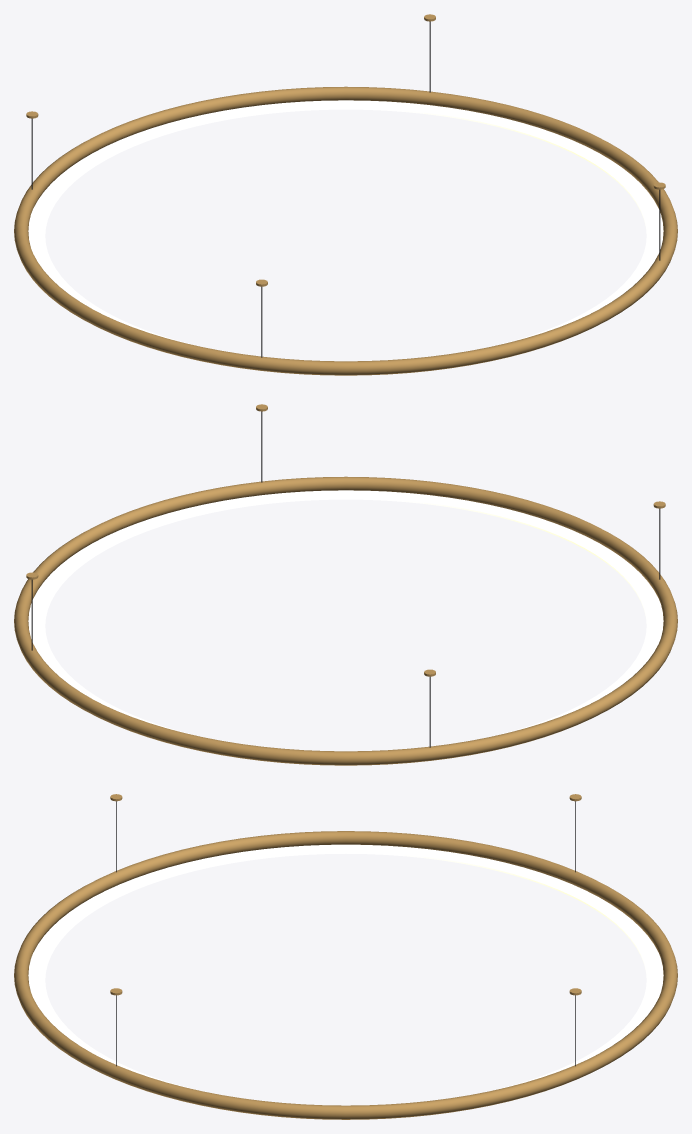
Rendered from chandelier_ring.glb.
The picture shows the model from 3 angles, top to bottom: view 1: azimuth 30°, elevation 25°; view 2: azimuth 150°, elevation 25°; view 3: azimuth 270°, elevation 25°; orthographic projection.
Parts seen in each view (by area): view 1: Mesh_Ring, Mesh_Diffuser; view 2: Mesh_Ring, Mesh_Diffuser; view 3: Mesh_Ring, Mesh_Diffuser.
Boxes of the visible parts, box(x1,y1,x2,y2) form: Mesh_Ring: box(14, 86, 677, 375); Mesh_Diffuser: box(28, 100, 663, 346); Mesh_Ring: box(14, 476, 677, 765); Mesh_Diffuser: box(28, 490, 663, 736); Mesh_Ring: box(14, 831, 677, 1119); Mesh_Diffuser: box(28, 844, 663, 1089).
Size of the model in its own units: 5.52 by 0.8273 by 5.52.
